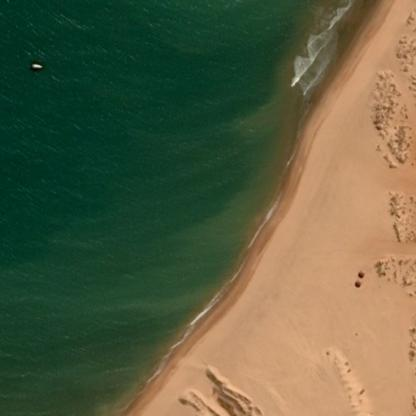ship: (31, 63, 41, 68)
